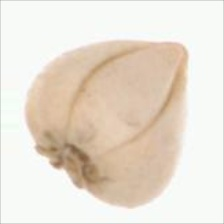L5: (66, 41, 188, 155), (31, 135, 110, 198)
L6: (22, 38, 190, 211)
